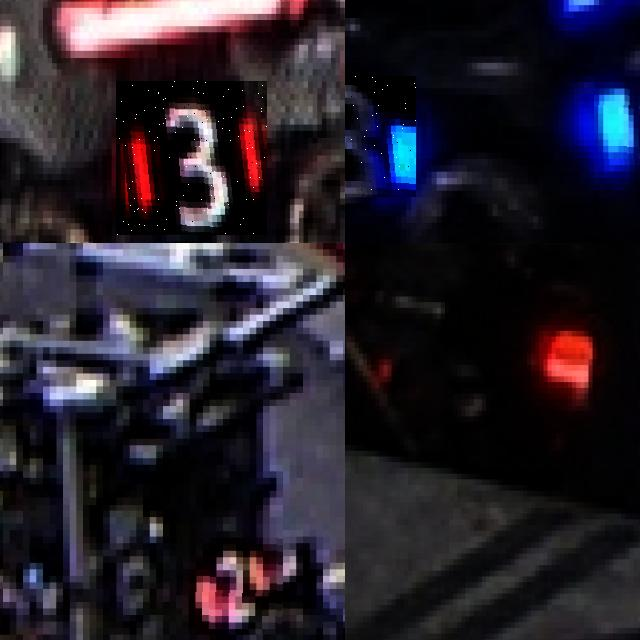B3: (345, 75, 416, 197), (594, 37, 640, 158)
R2: (176, 524, 283, 634)
R3: (116, 81, 267, 236)
